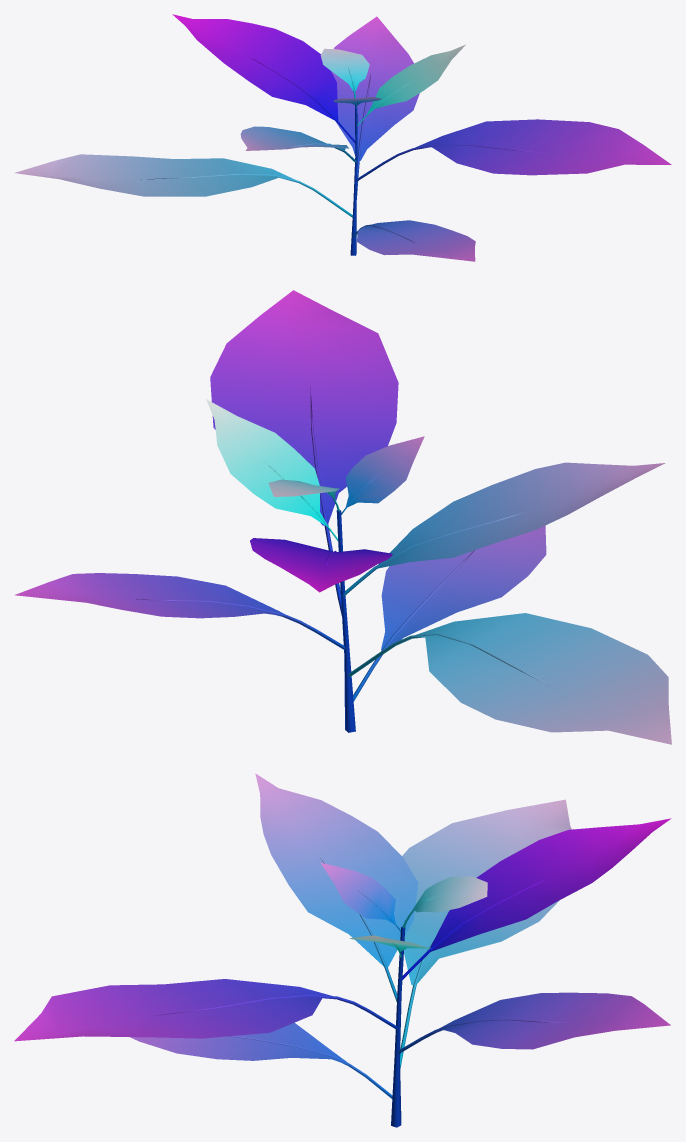
Rendered from xefmcgrqx_VarA_LOD0.fbx.
3 views of the same model, one above another, from view 1: azimuth 30°, elevation 25°; view 2: azimuth 150°, elevation 25°; view 3: azimuth 270°, elevation 25° (orthographic). The views are drawn at different scales.
Parts seen in each view (by area): view 1: _z1ig_VarA_LOD1; view 2: _z1ig_VarA_LOD1; view 3: _z1ig_VarA_LOD1.
Part boxes in pixels (box(x1,y1,x2,y2)): _z1ig_VarA_LOD1: box(15, 14, 671, 261); _z1ig_VarA_LOD1: box(14, 290, 671, 744); _z1ig_VarA_LOD1: box(14, 773, 671, 1127).
Bounding box in the file's own units: 25.81 × 10.31 × 23.67.
